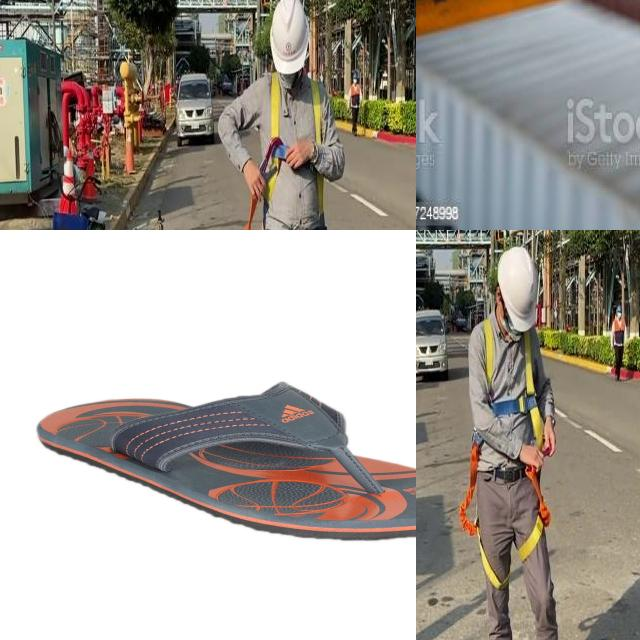Harness: (458, 438, 552, 590), (486, 319, 544, 448), (260, 72, 289, 230)
Sandals: (35, 380, 416, 543)
